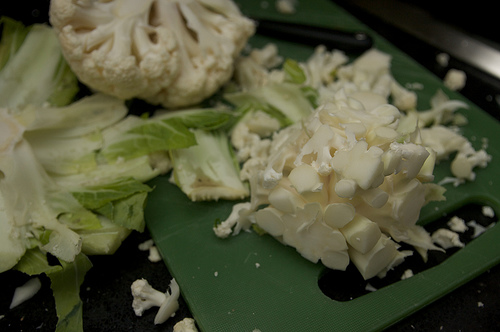cauliflower: (167, 43, 492, 280), (47, 0, 256, 109), (123, 272, 185, 326)
